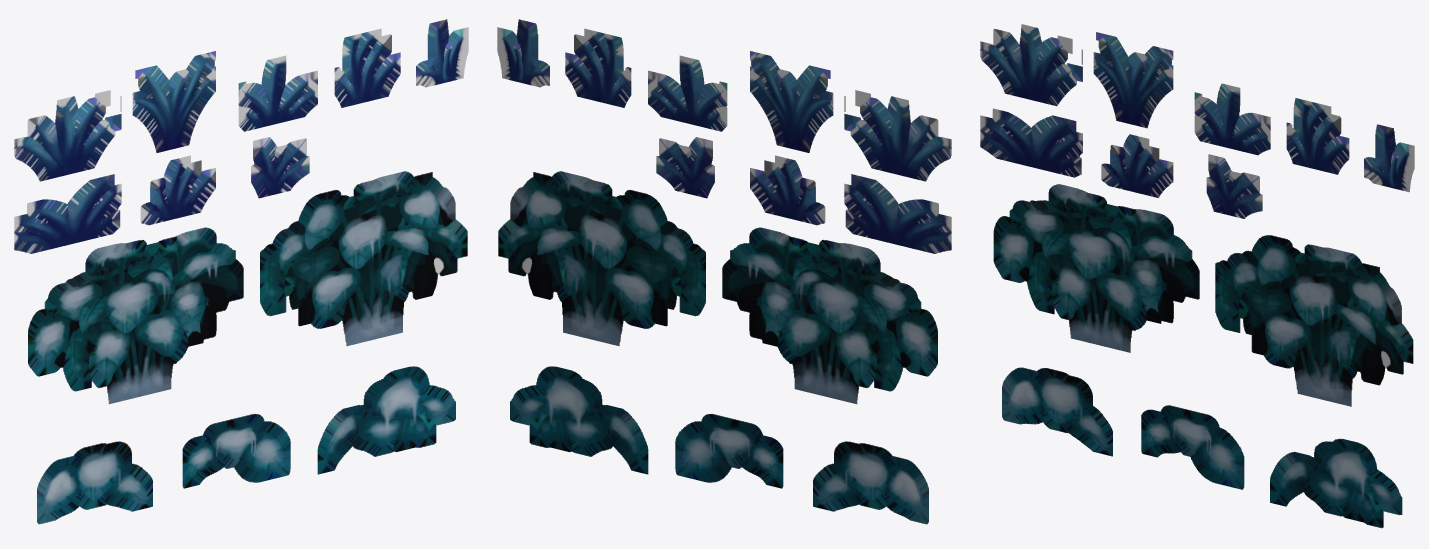
File: P_Bush12_Phillo.FBX
3 views of the same model, side by side, from view 1: azimuth 30°, elevation 25°; view 2: azimuth 150°, elevation 25°; view 3: azimuth 330°, elevation 25° (orthographic). The views are drawn at different scales.
Visible parts, largest first — view 1: mesh_Phillo_A, mesh_Phillo_B, mesh_Phillo_E, mesh_Phillo_C, mesh_Grass_L, mesh_Phillo_D, mesh_Grass_M, mesh_Grass_Q, mesh_Grass_N, mesh_Grass_O, mesh_Grass_R, mesh_Grass_S (+1 smaller); view 2: mesh_Phillo_A, mesh_Phillo_B, mesh_Phillo_E, mesh_Phillo_C, mesh_Grass_L, mesh_Phillo_D, mesh_Grass_M, mesh_Grass_Q, mesh_Grass_N, mesh_Grass_O, mesh_Grass_R, mesh_Grass_S (+1 smaller); view 3: mesh_Phillo_A, mesh_Phillo_B, mesh_Phillo_E, mesh_Phillo_C, mesh_Grass_L, mesh_Phillo_D, mesh_Grass_M, mesh_Grass_Q, mesh_Grass_N, mesh_Grass_O, mesh_Grass_R, mesh_Grass_S (+1 smaller).
Part boxes in pixels (box(x1,y1,x2,y2)): mesh_Phillo_A: box(28, 227, 243, 404); mesh_Phillo_B: box(260, 171, 467, 346); mesh_Phillo_E: box(317, 366, 455, 474); mesh_Phillo_C: box(37, 441, 152, 524); mesh_Grass_L: box(14, 90, 121, 181); mesh_Phillo_D: box(182, 414, 290, 488); mesh_Grass_M: box(132, 51, 215, 152); mesh_Grass_Q: box(14, 174, 121, 253); mesh_Grass_N: box(238, 55, 317, 131); mesh_Grass_O: box(334, 28, 400, 107); mesh_Grass_R: box(140, 155, 215, 225); mesh_Grass_S: box(251, 137, 309, 198); mesh_Phillo_A: box(722, 227, 937, 404); mesh_Phillo_B: box(498, 171, 705, 346); mesh_Phillo_E: box(510, 366, 648, 474); mesh_Phillo_C: box(813, 441, 928, 524); mesh_Grass_L: box(844, 90, 951, 181); mesh_Phillo_D: box(675, 414, 783, 488); mesh_Grass_M: box(750, 51, 833, 152); mesh_Grass_Q: box(844, 174, 951, 253); mesh_Grass_N: box(648, 55, 727, 131); mesh_Grass_O: box(565, 28, 631, 107); mesh_Grass_R: box(750, 155, 825, 225); mesh_Grass_S: box(656, 137, 714, 198); mesh_Phillo_A: box(993, 184, 1199, 352); mesh_Phillo_B: box(1215, 235, 1413, 406); mesh_Phillo_E: box(1270, 438, 1402, 528); mesh_Phillo_C: box(1002, 367, 1112, 456); mesh_Grass_L: box(980, 24, 1082, 106); mesh_Phillo_D: box(1141, 405, 1244, 489); mesh_Grass_M: box(1093, 32, 1173, 128); mesh_Grass_Q: box(980, 108, 1082, 177); mesh_Grass_N: box(1194, 83, 1270, 155); mesh_Grass_O: box(1286, 98, 1349, 174); mesh_Grass_R: box(1101, 134, 1173, 197); mesh_Grass_S: box(1206, 154, 1262, 218).
Size of the model in its own units: 147 by 139 by 9.71e-06.
